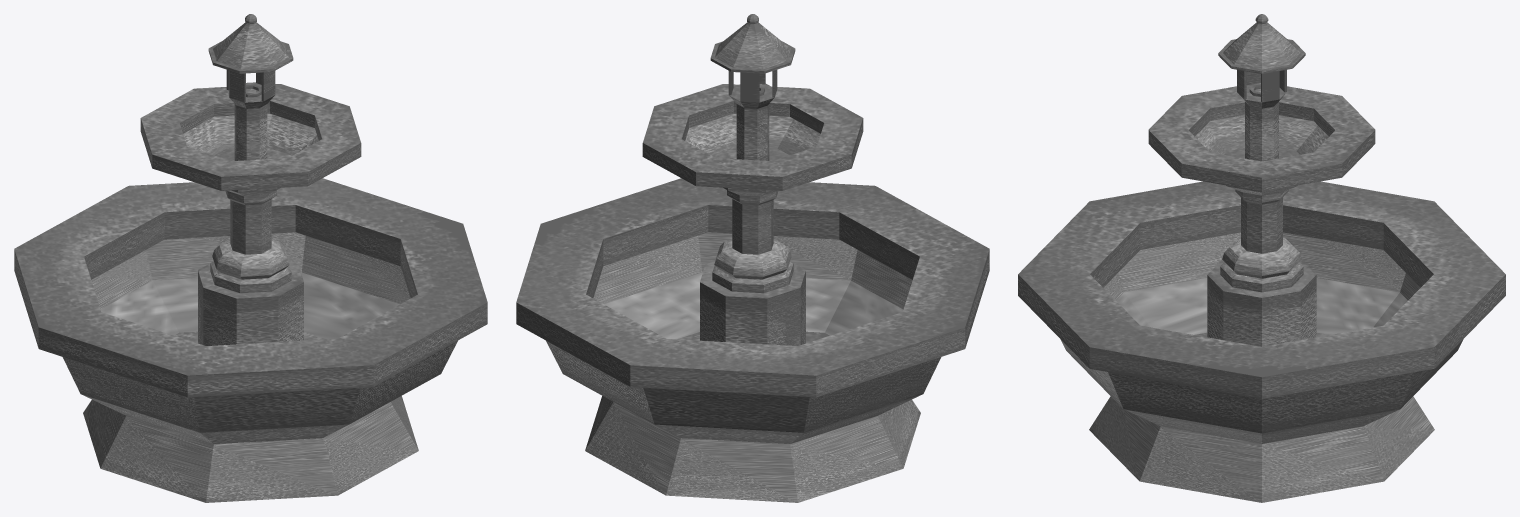
Rendered from fountain.fbx.
3 renders of one model, left to right at view 1: azimuth 30°, elevation 25°; view 2: azimuth 150°, elevation 25°; view 3: azimuth 270°, elevation 25°, orthographic.
Parts seen in each view (by area): view 1: fountain; view 2: fountain; view 3: fountain.
Boxes of the visible parts, left/top/right/bottom form: fountain: left=14, top=14, right=487, bottom=502; fountain: left=516, top=14, right=989, bottom=502; fountain: left=1018, top=14, right=1505, bottom=502.
Bounding box in the file's own units: 374 × 352 × 374.
Materials: 1 (1 with a texture image).
